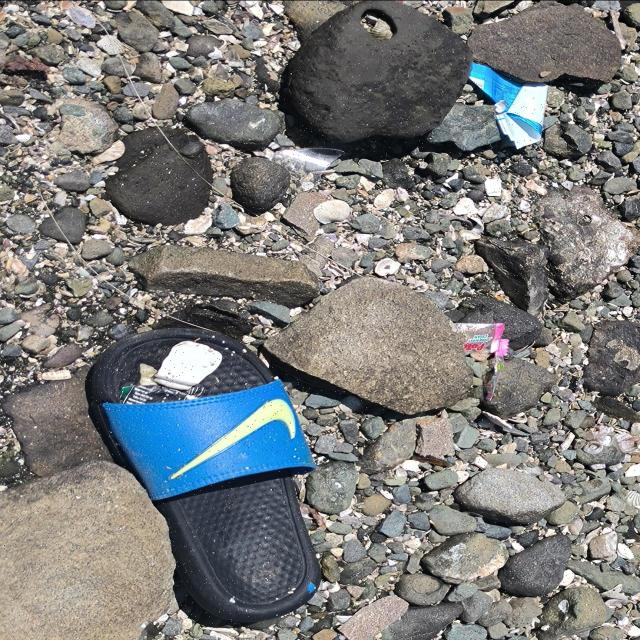plastic_waste: (470, 63, 551, 151), (455, 322, 512, 402)
rubber_waste: (88, 326, 326, 625)
